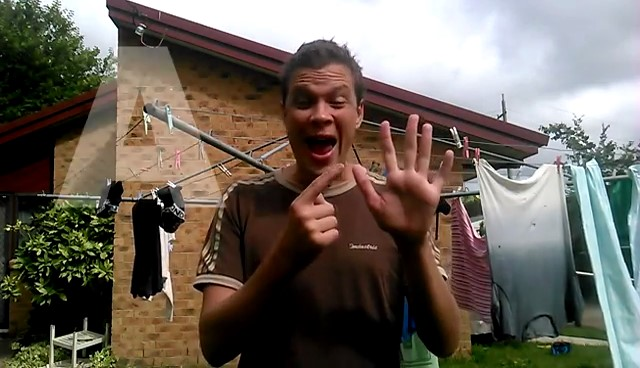A: (253, 109, 458, 265)
